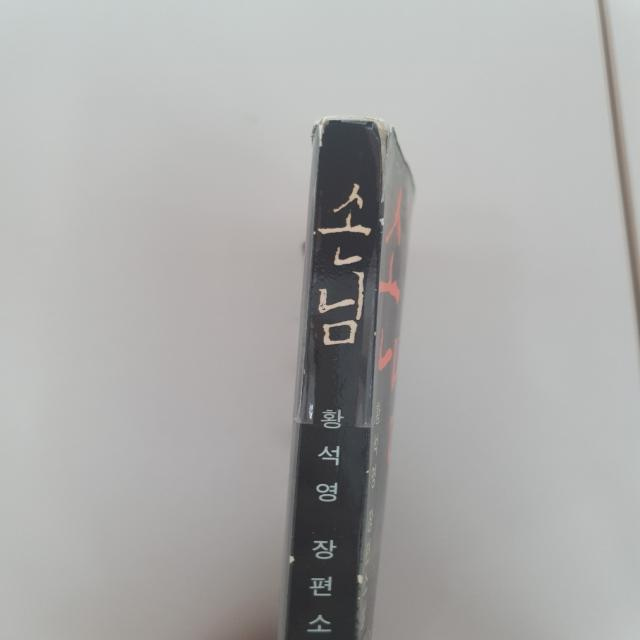Ripped: (363, 117, 397, 204), (311, 115, 332, 157)
Wornout: (330, 115, 382, 125), (282, 548, 302, 568), (353, 571, 364, 601), (362, 468, 372, 476)
